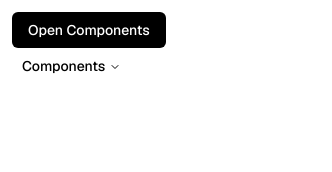
Scenario: NavigationMenu › opens when controlled value is set
Click the button "Open Components" at (89, 30), box left=12, top=12, right=166, bottom=48
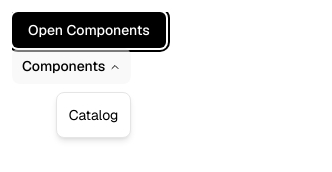
Check: the link "Catalog" is shown, box left=69, top=106, right=118, bottom=124
